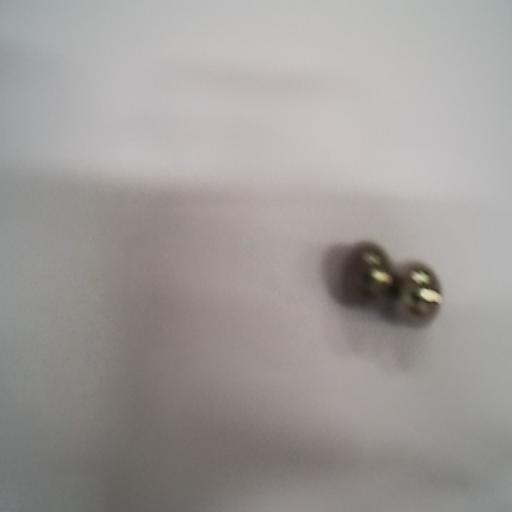steel-ball: (345, 239, 396, 311), (400, 264, 443, 334)
